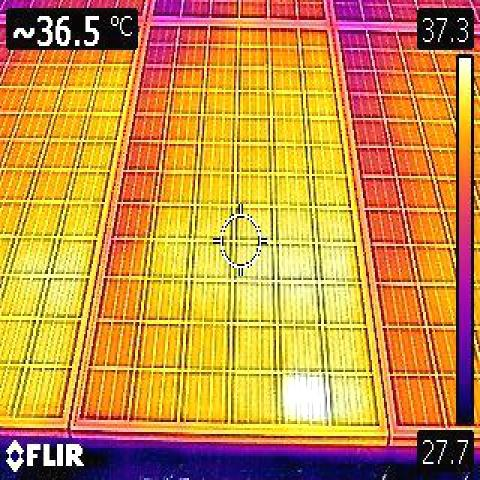fault: (283, 374, 329, 424)
